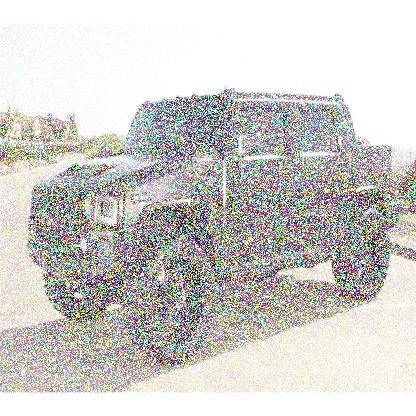Vehicle: (27, 88, 401, 368)
